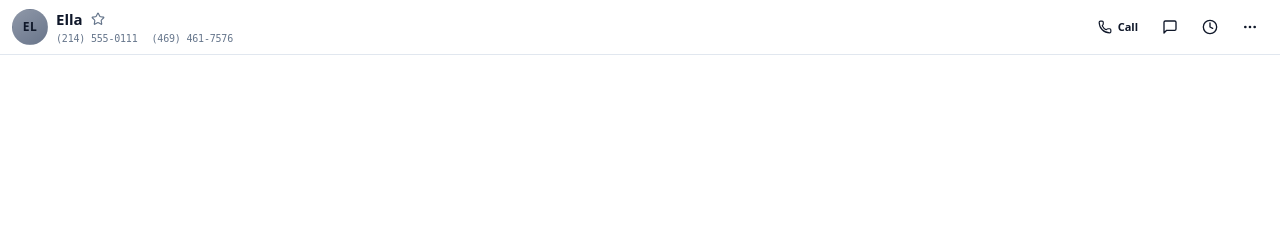
Test: ConversationHeader P26 snooze › renders a role=alert when a snooze POST fails
What coordinates should you click on to do the following:
click the button named "Snooze"
I would click on:
 (1210, 27)
Its box is [1192,9,1228,45].
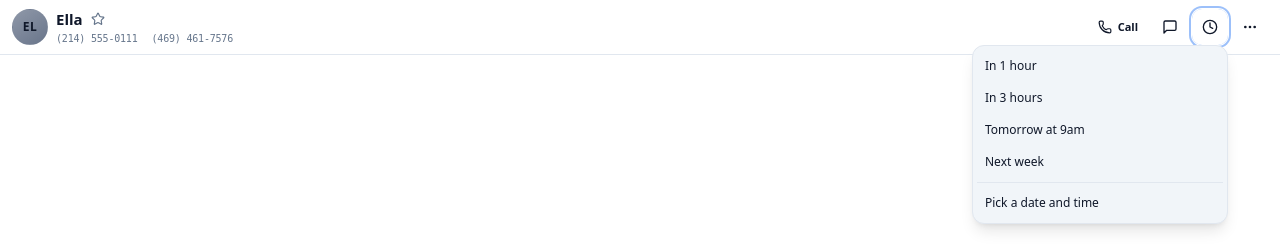
What coordinates should you click on to do the following:
click the menu item "In 1 hour"
I would click on:
 (1100, 66)
Its box is [977,50,1223,82].
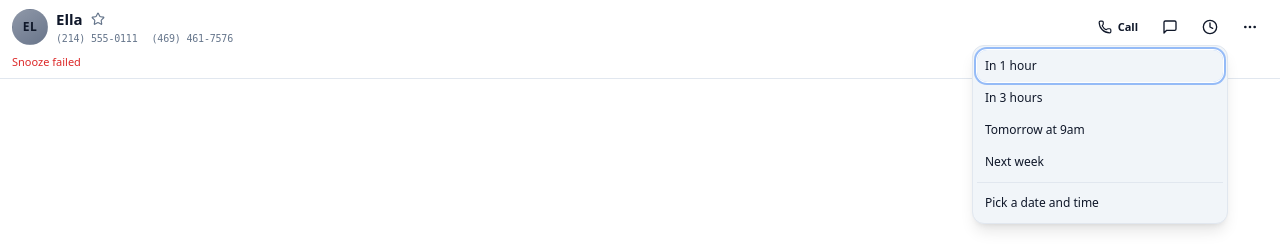
Check: the message reads "Snooze failed", box [12,54,81,68]
